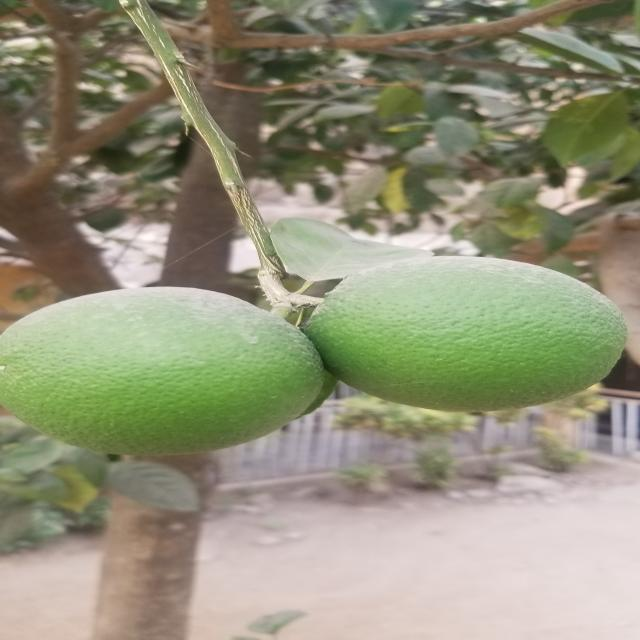Unripe: (0, 287, 333, 459), (310, 254, 627, 409)
